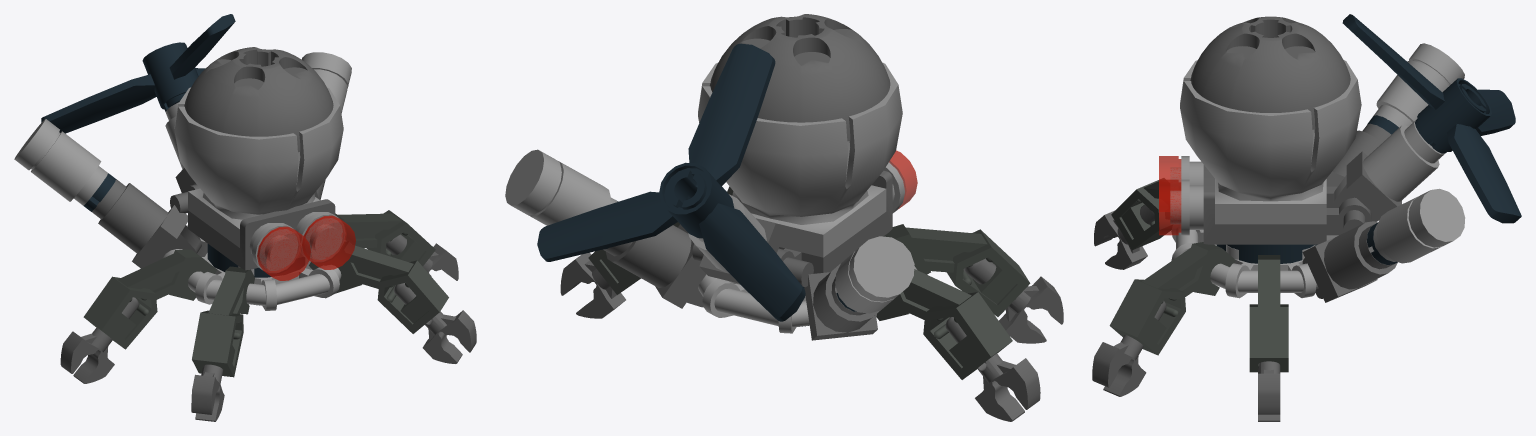
The picture shows the model from 3 angles, left to right: view 1: azimuth 30°, elevation 25°; view 2: azimuth 150°, elevation 25°; view 3: azimuth 270°, elevation 25°; orthographic projection. The views are drawn at different scales.
Size of the model in its own units: 172 by 154 by 124.
